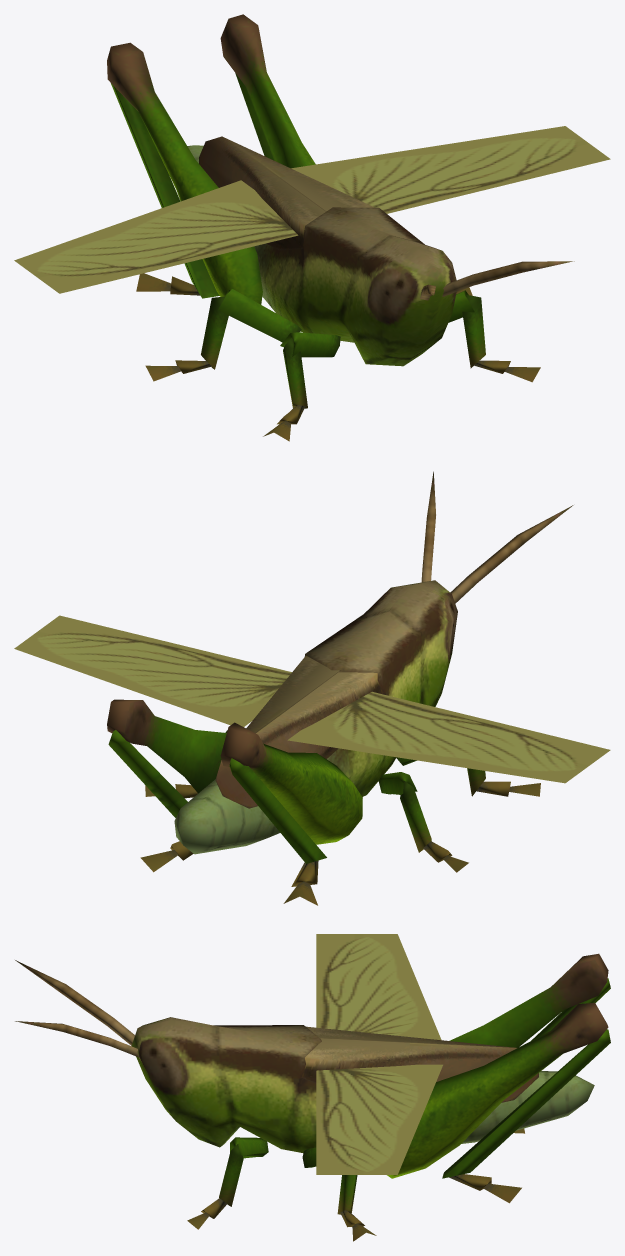
File: InsectInago.glb
3 views of the same model, one above another, from view 1: azimuth 30°, elevation 25°; view 2: azimuth 150°, elevation 25°; view 3: azimuth 270°, elevation 25° (orthographic). The views are drawn at different scales.
Visible parts, largest first — view 1: body112__mInago, pPlane1__mWing; view 2: body112__mInago, pPlane1__mWing; view 3: body112__mInago, pPlane1__mWing.
Part boxes in pixels (left/top/right/bottom): body112__mInago: left=107, top=14, right=574, bottom=441; pPlane1__mWing: left=14, top=126, right=610, bottom=293; body112__mInago: left=107, top=471, right=573, bottom=905; pPlane1__mWing: left=14, top=615, right=610, bottom=783; body112__mInago: left=15, top=953, right=610, bottom=1241; pPlane1__mWing: left=316, top=934, right=442, bottom=1174.
Bounding box in the file's own units: 3.71 × 1.37 × 3.89.
Materials: 2 (2 with a texture image).
